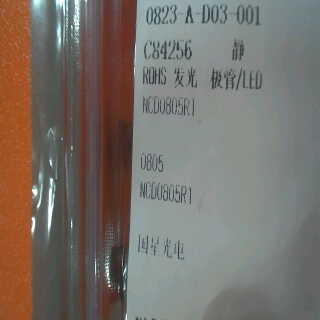LED: (170, 64, 269, 96)
